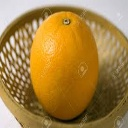orange: (30, 11, 101, 121)
